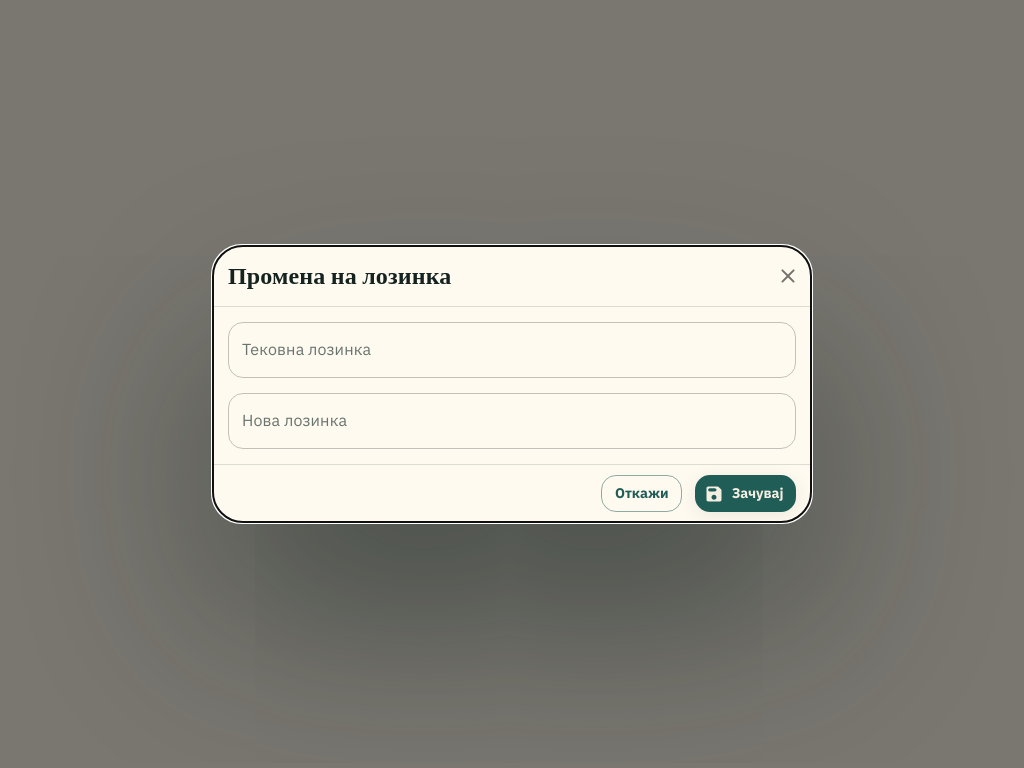
Test case: CarCare frontend baseline › shows the change password message returned by the API
Type "wrong-password" into the password field named "currentPassword". click: (512, 350)
box: [228,322,796,378]
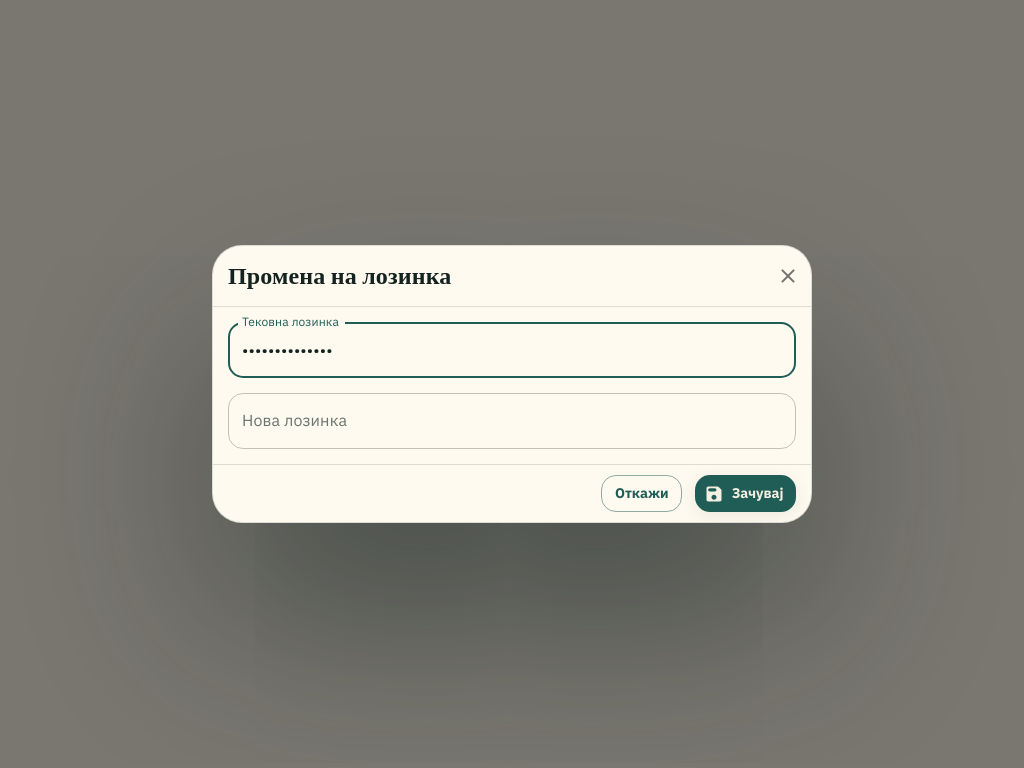
Type "password456" into the password field named "newPassword". click: (512, 421)
box: [228,393,796,449]
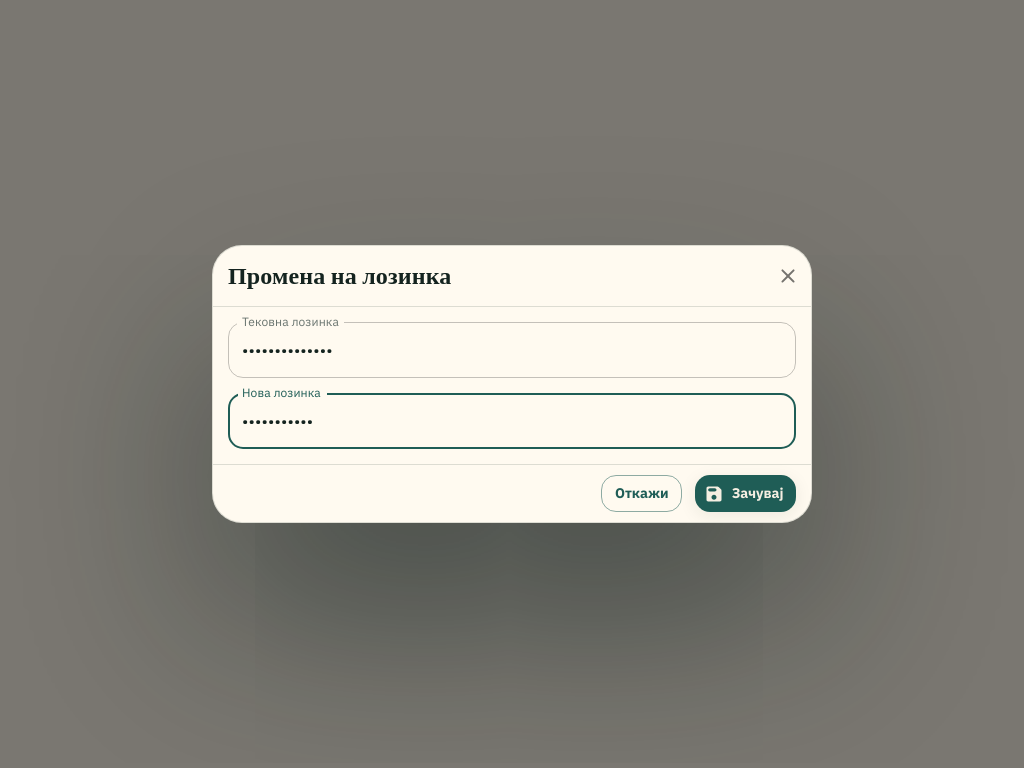
Click the submit button. click: (746, 494)
box: [695,475,796,512]
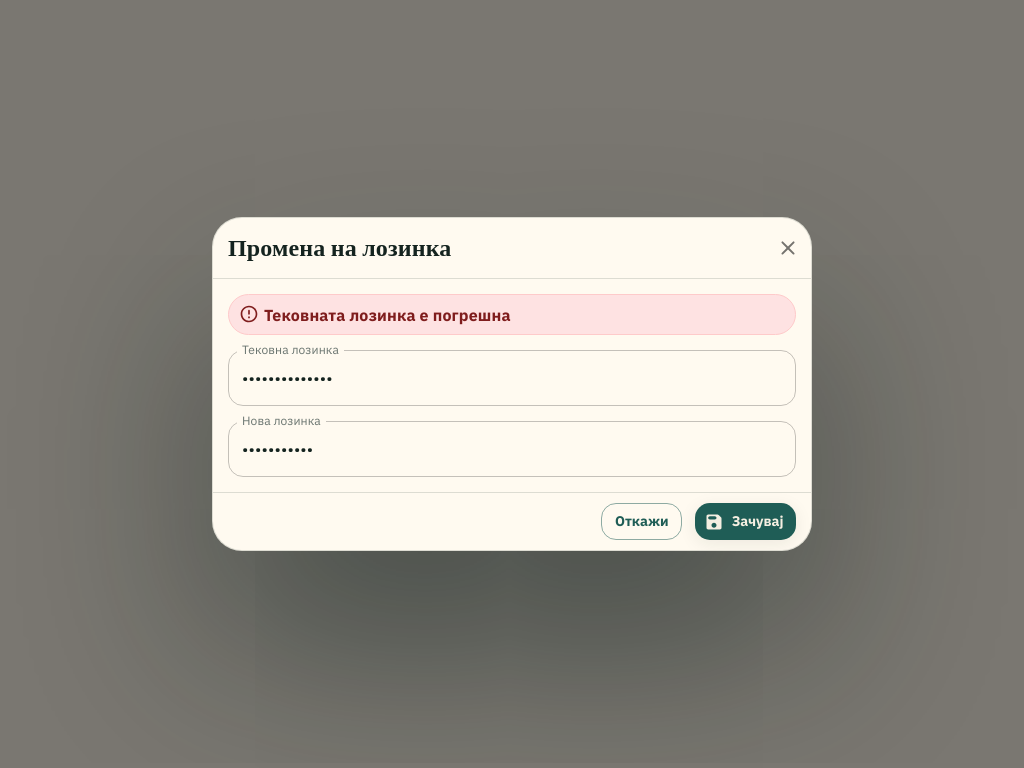
Expected: the message reads "Тековната лозинка е погрешна", [264,305,511,325]
